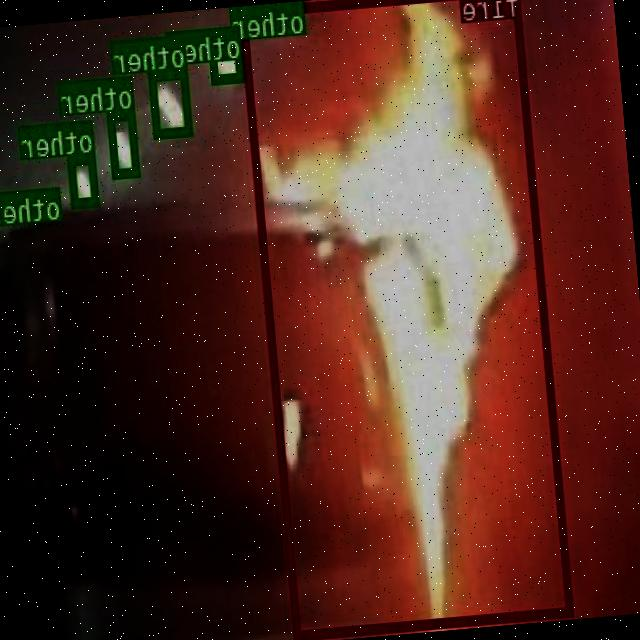fire: (240, 0, 575, 638)
